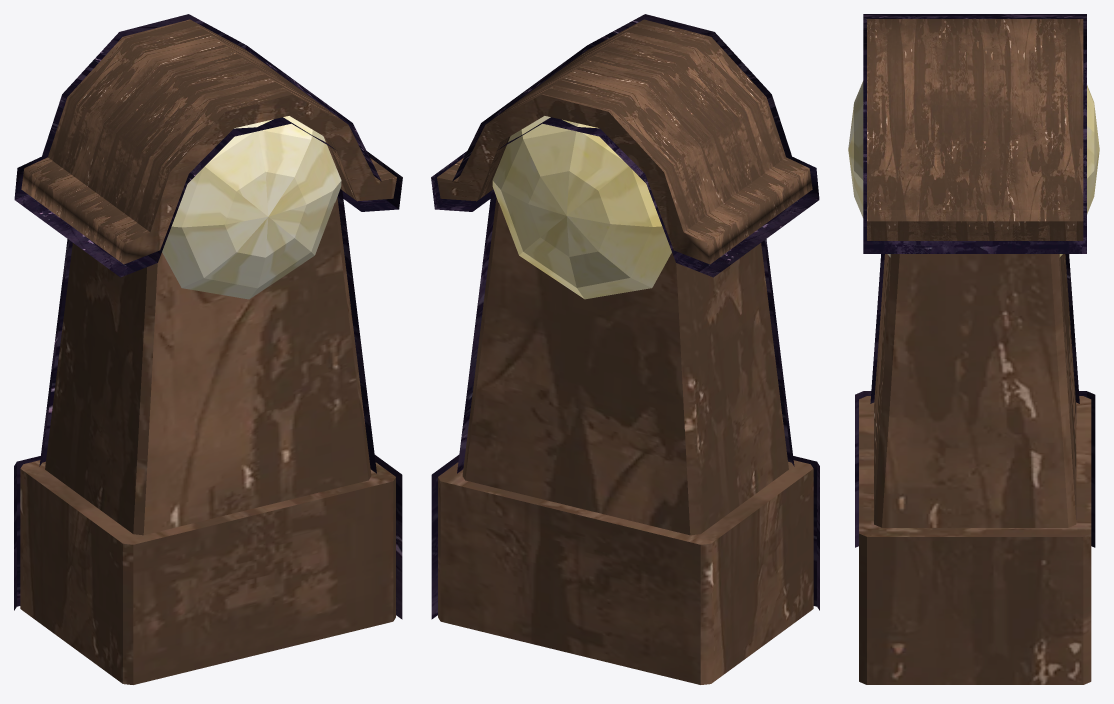
File: pm-fence-01-post.glb
The picture shows the model from 3 angles, left to right: view 1: azimuth 30°, elevation 25°; view 2: azimuth 150°, elevation 25°; view 3: azimuth 270°, elevation 25°; orthographic projection. The views are drawn at different scales.
Parts seen in each view (by area): view 1: Fence_01_Post_Art; view 2: Fence_01_Post_Art; view 3: Fence_01_Post_Art.
Boxes of the visible parts, bbox=[...] form: Fence_01_Post_Art: bbox=[14, 14, 402, 684]; Fence_01_Post_Art: bbox=[431, 14, 819, 684]; Fence_01_Post_Art: bbox=[848, 14, 1099, 684].
Size of what is drawn, in the model's own units: 0.7262 by 1.36 by 0.5293.
Materials: 3 (3 with a texture image).
